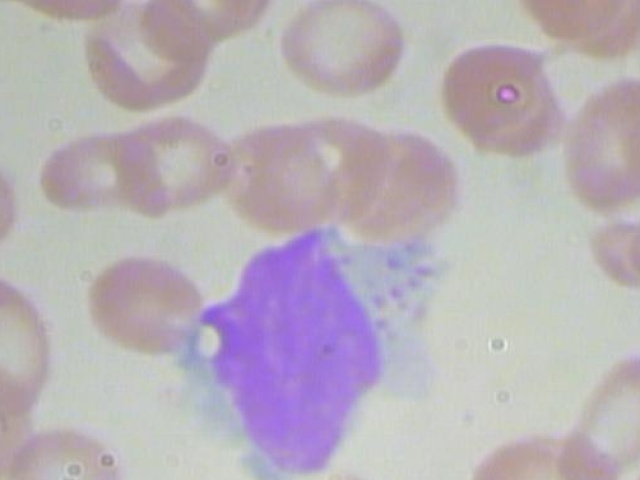RBC: (435, 30, 578, 175), (76, 0, 222, 121), (74, 249, 212, 354), (275, 0, 414, 95), (548, 340, 640, 480), (113, 116, 235, 216), (553, 71, 640, 210), (38, 123, 162, 215), (0, 274, 60, 421), (0, 419, 137, 480), (460, 428, 598, 480)
WBC: (158, 223, 462, 480)
